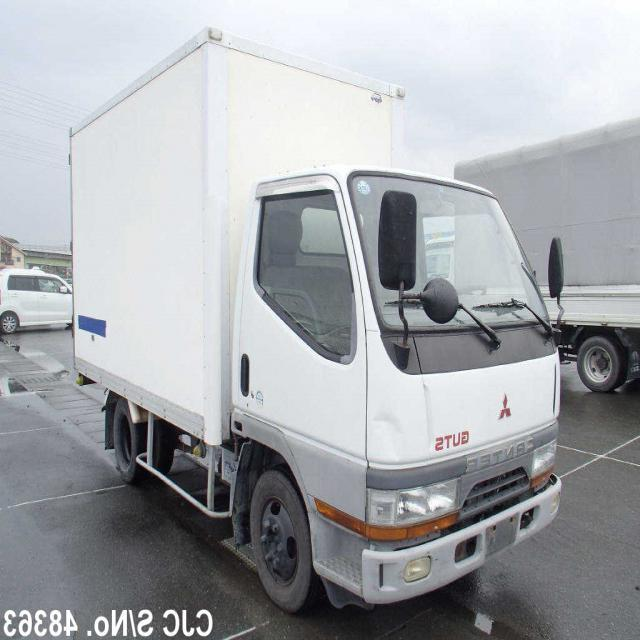truck: (74, 28, 565, 608)
